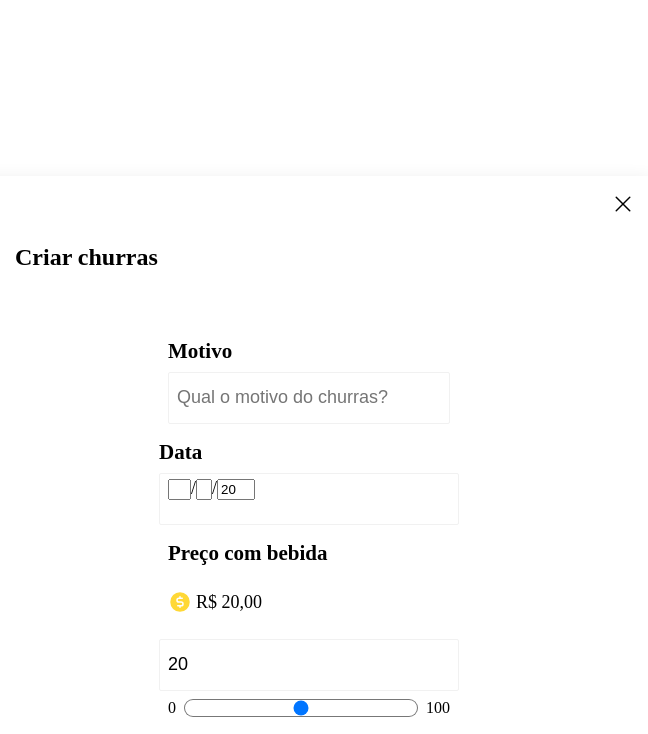
Test: CreateBarbecue › should show error message when user places prices below 1 or above 100
Replace the text in the number field with placeholder "Digite o preço com bebidas" below "R$ 20,00" with "0" at (309, 665), box [159,639,459,691]
(page scrolled)
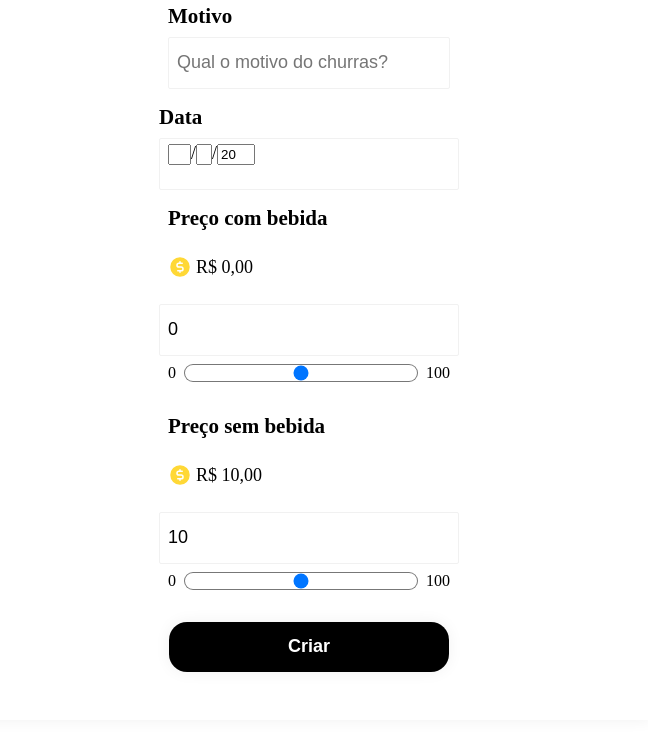
Replace the text in the number field with placeholder "Digite o preço sem bebidas" below "R$ 10,00" with "101" at (309, 538), box [159,512,459,564]
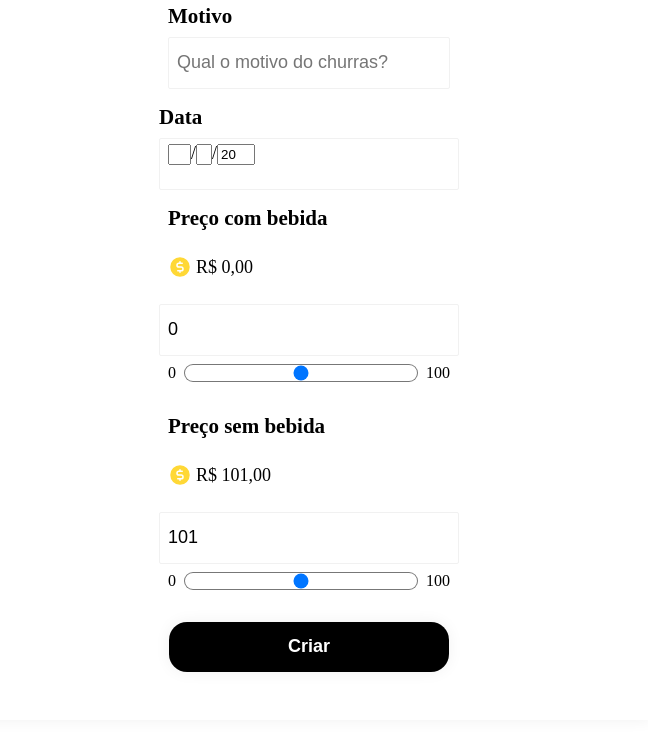
Click the button "Criar".
click(309, 647)  # box [169,622,449,672]
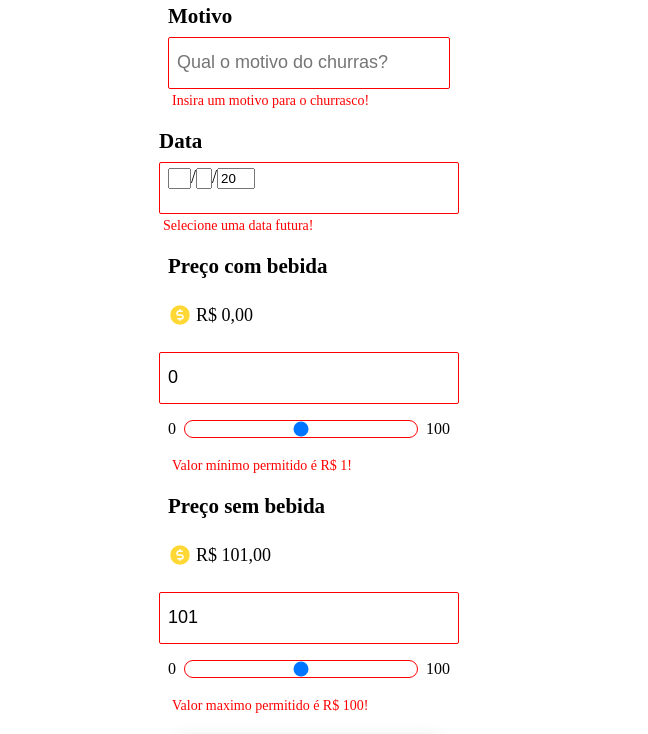
Check: the text "Valor maximo permitido é R$ 100!" is shown, box [172,698,368,713]
Check: the text "Valor mínimo permitido é R$ 1!" is shown, box [172,458,352,473]
